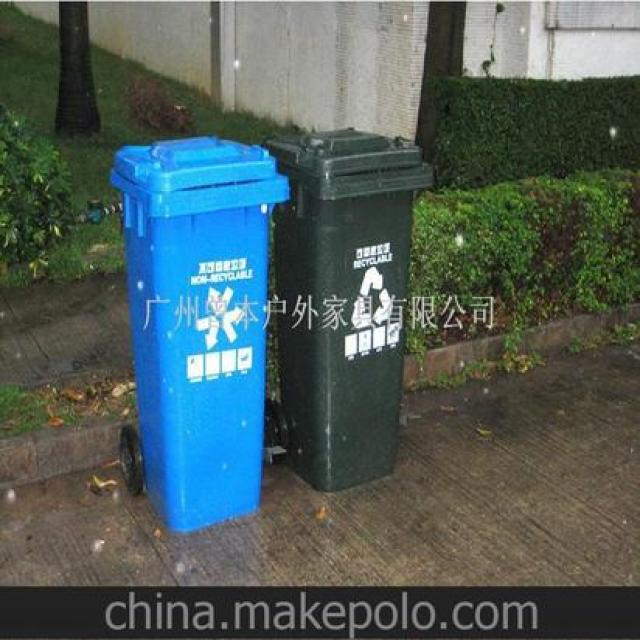garbage_bin: (109, 134, 289, 531), (264, 125, 430, 492)
